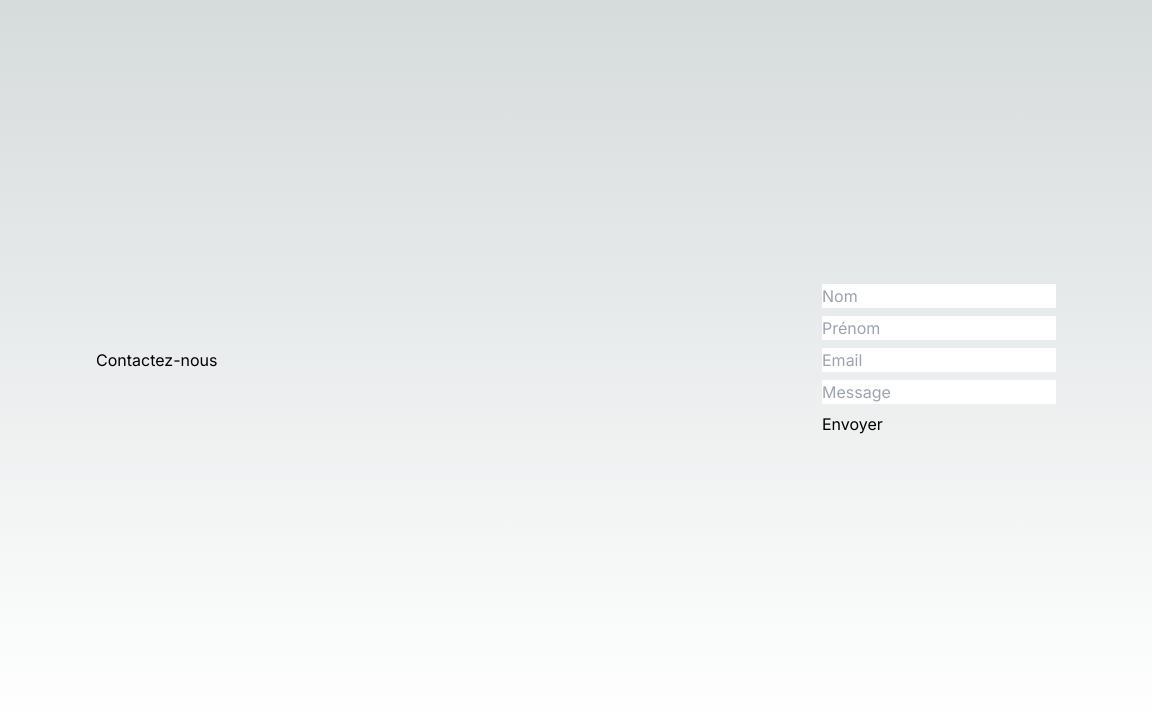
Test: Contact page › should not send a message
The width and height of the screenshot is (1152, 720).
In the field named "lastName": (939, 296) x1=822 y1=284 x2=1056 y2=308, type "a"
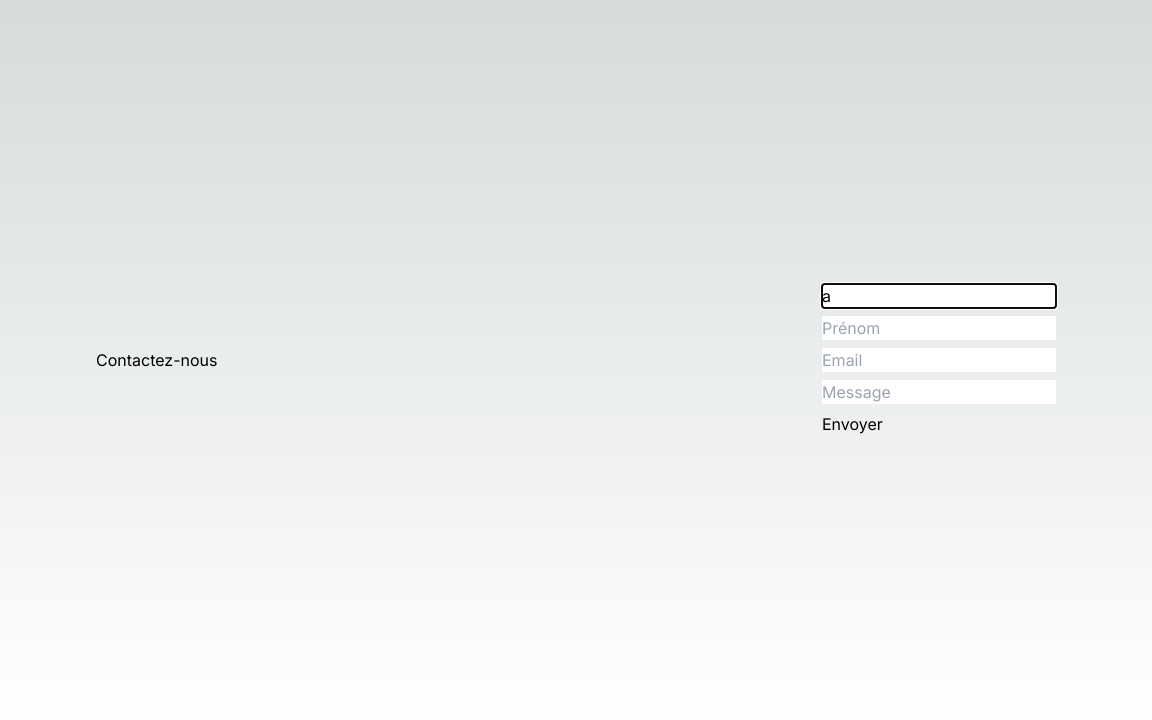
In the field named "firstName": (939, 328) x1=822 y1=316 x2=1056 y2=340, type "b"
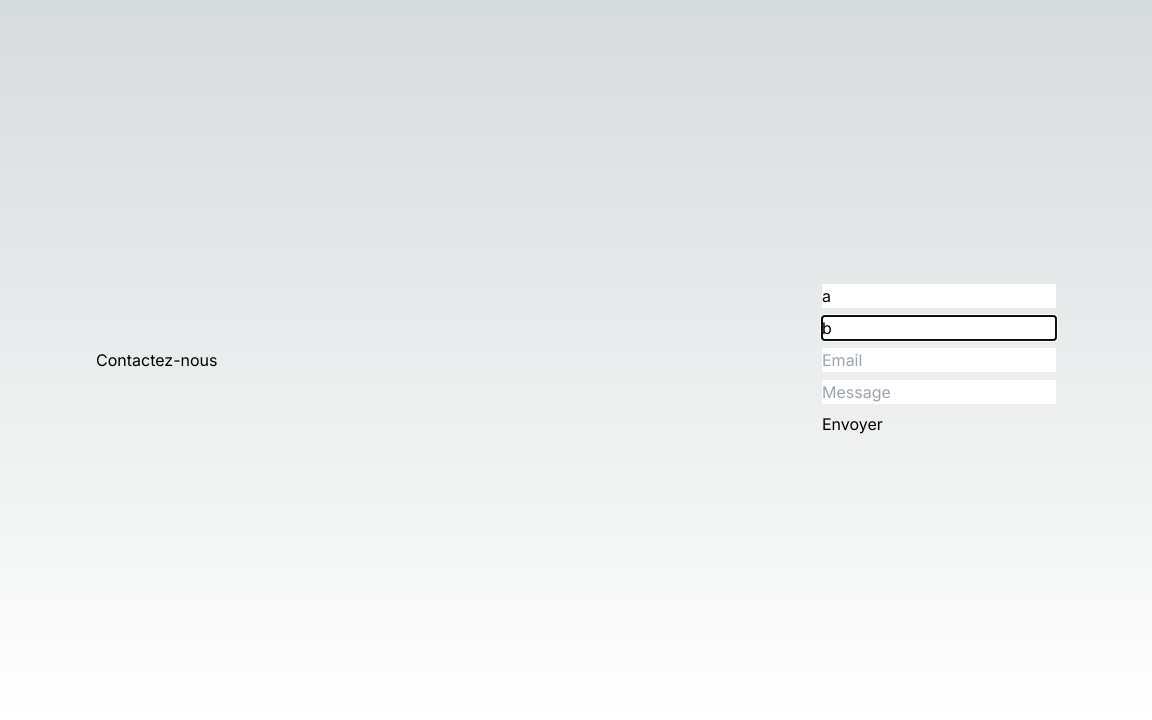
In the field named "email": (939, 360) x1=822 y1=348 x2=1056 y2=372, type "c"
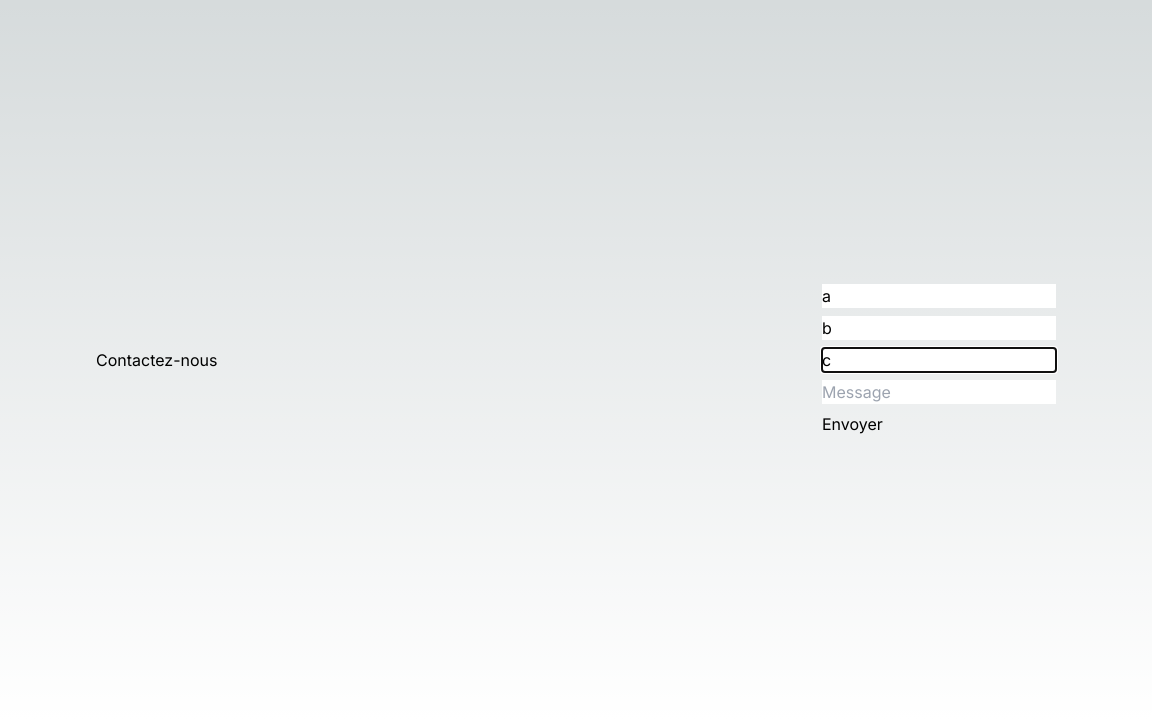
In the field named "message": (939, 392) x1=822 y1=380 x2=1056 y2=404, type "d"
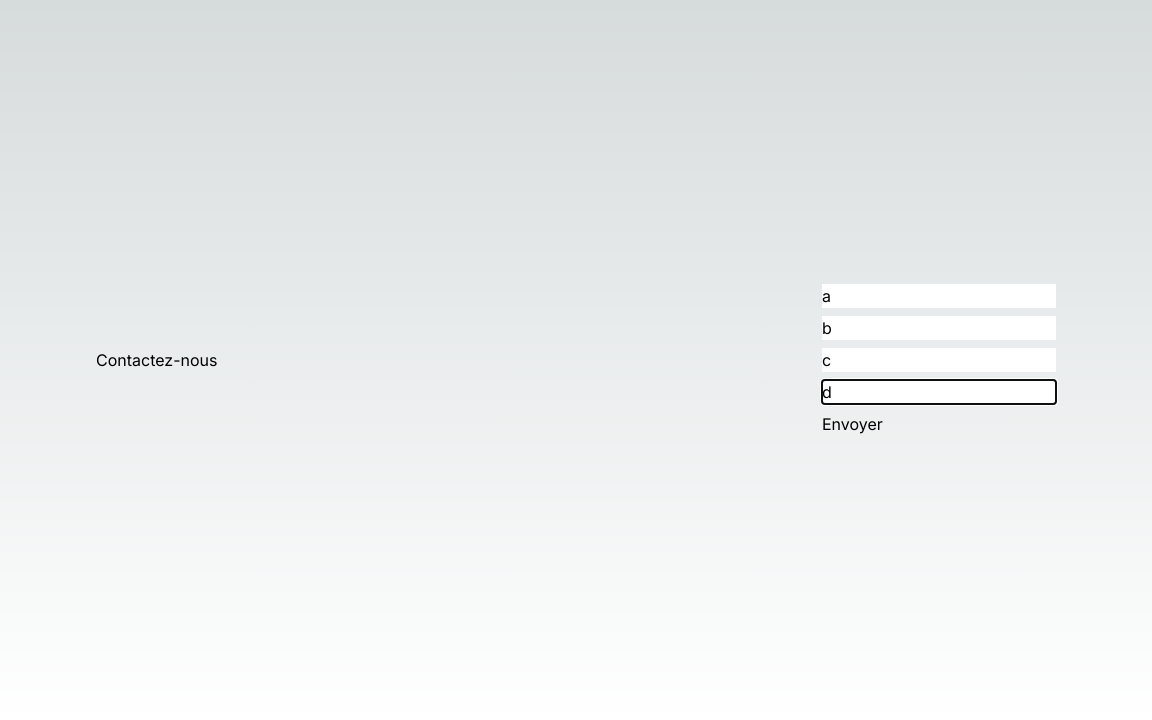
Click the submit button: (853, 424) x1=822 y1=412 x2=883 y2=436
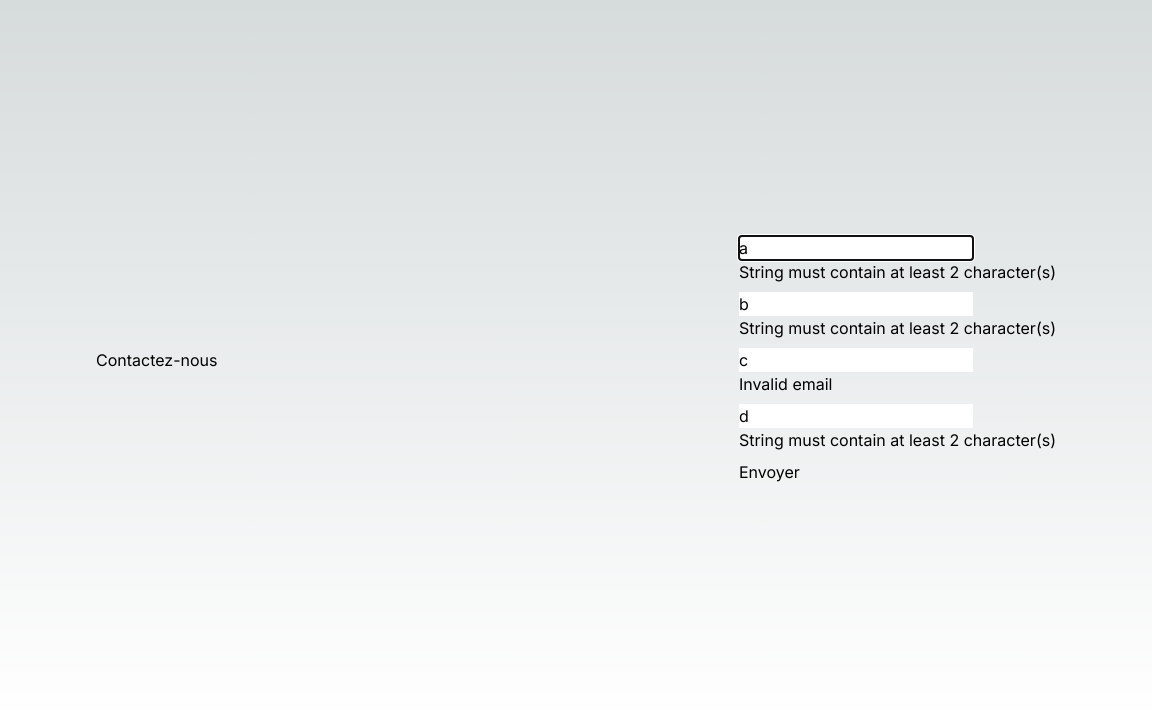
Expected: the text "Invalid email" is shown, x1=739 y1=374 x2=832 y2=394
